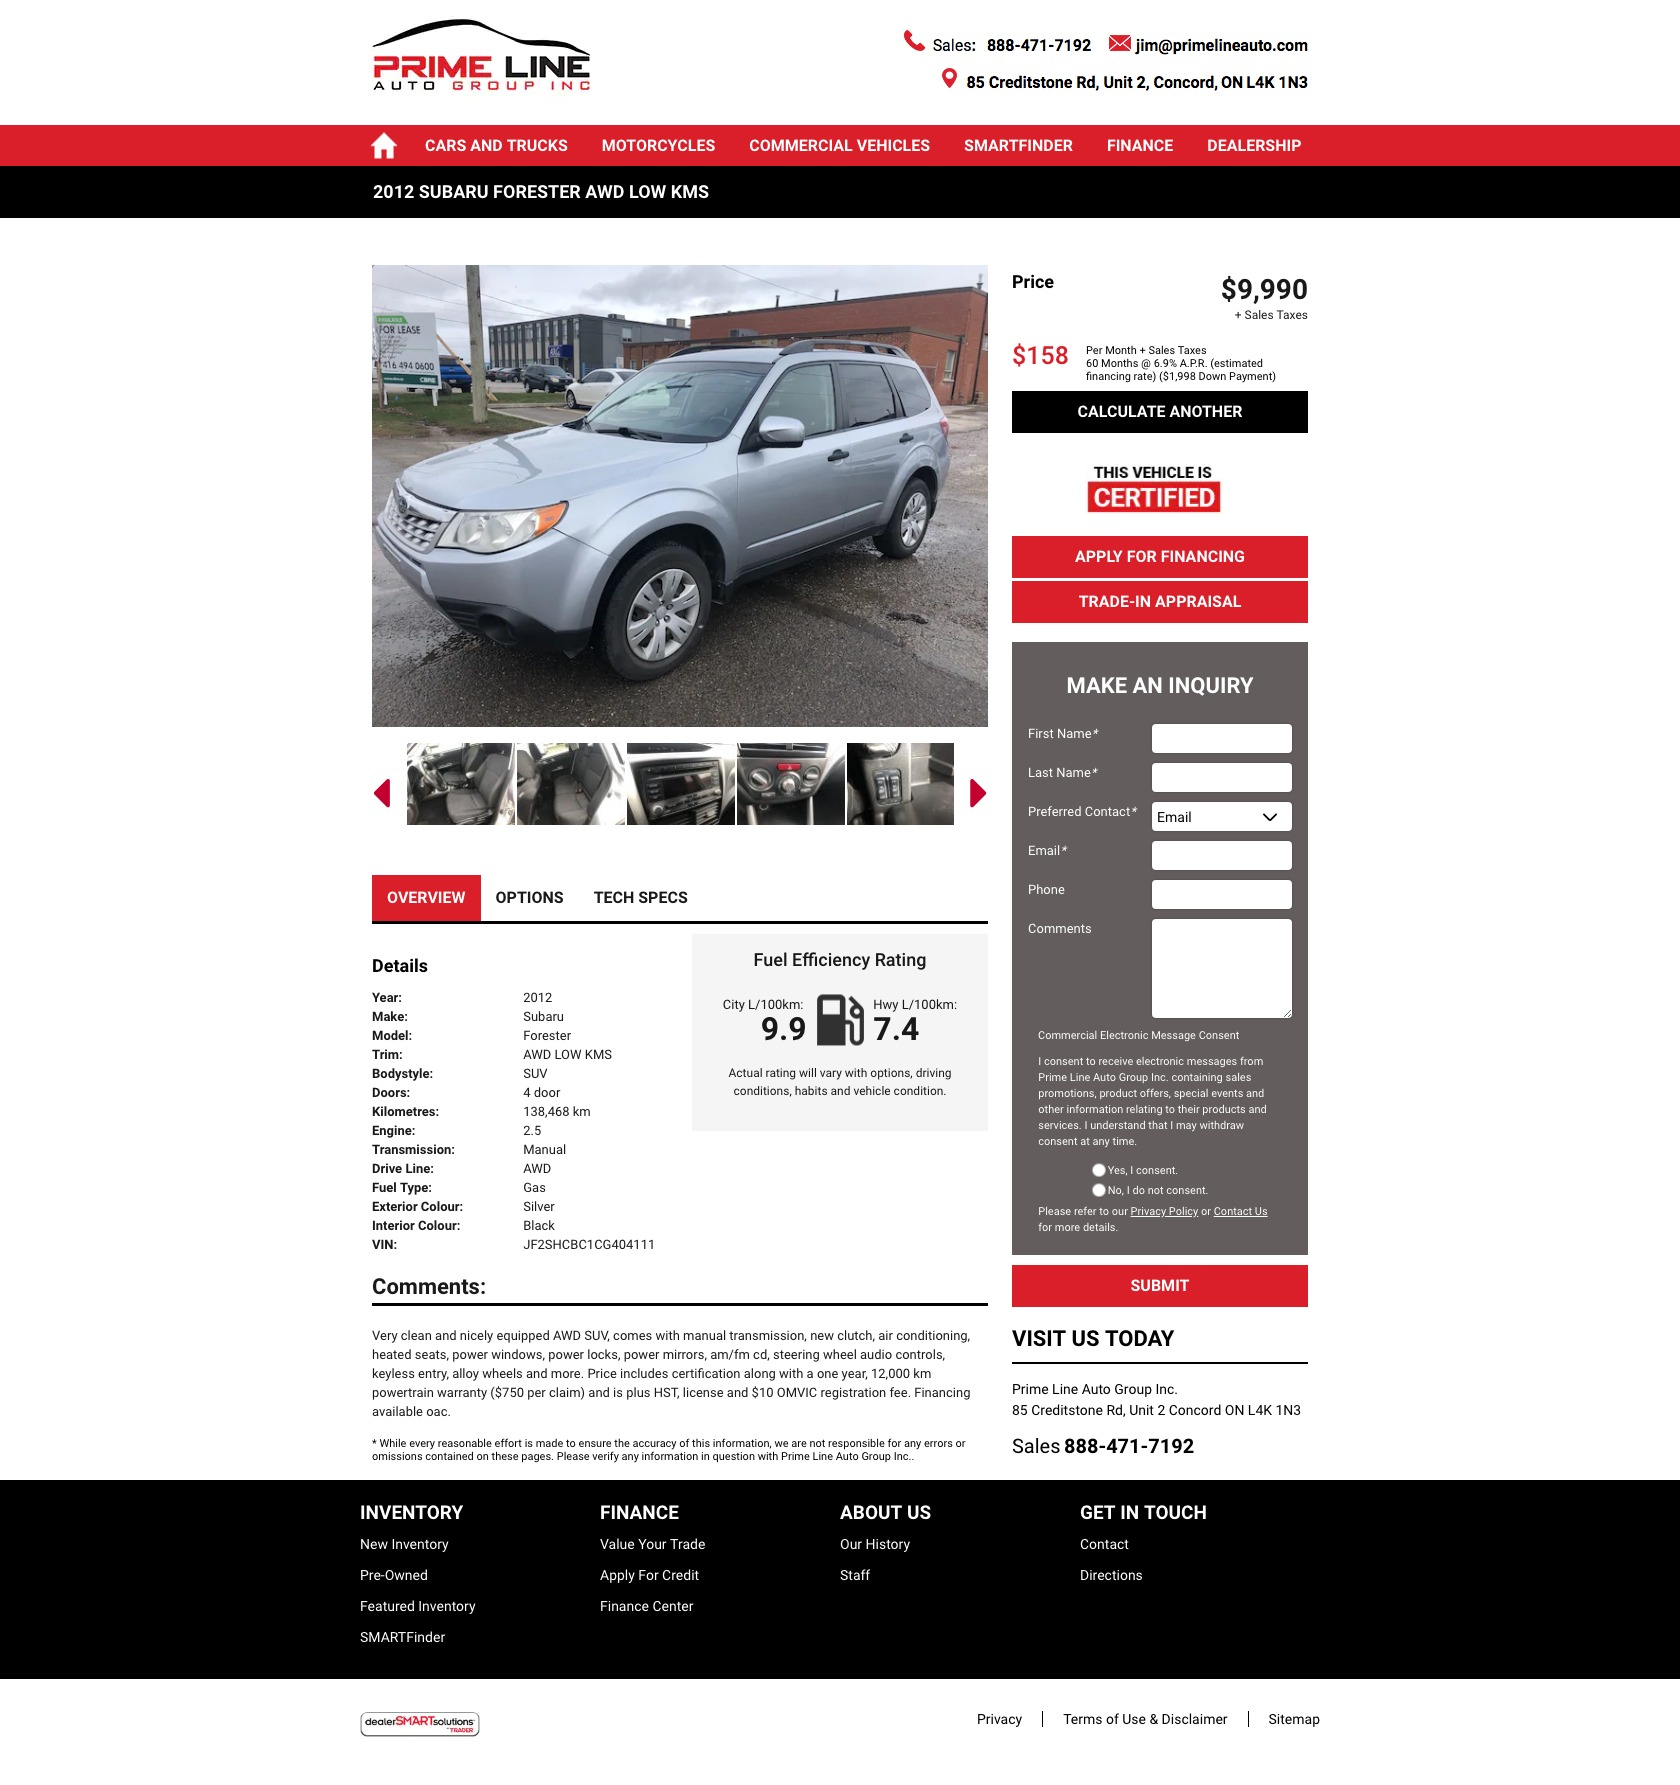car: (969, 780, 988, 810)
